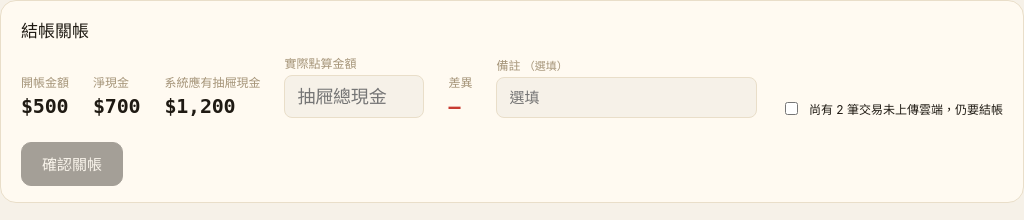
Test: CashClosePanel › 確認關帳 button enabled when hasQueuedRows and queuedAccepted
Type "1200" into the field labelled "實際點算金額" at (354, 96), box [284, 75, 424, 118]
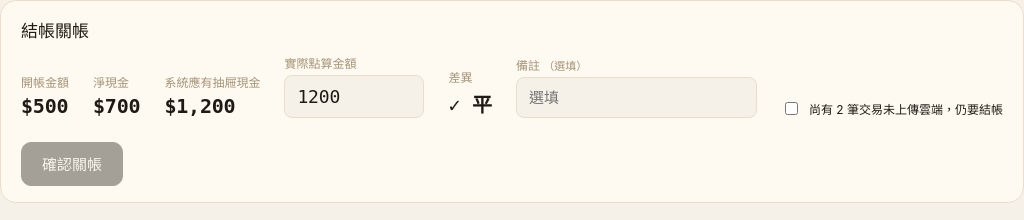
Type "test" into the field named "關帳備註" at (636, 98), box [516, 77, 757, 118]
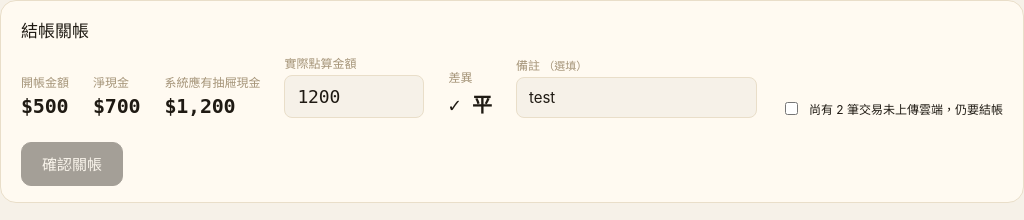
Click the checkbox labelled "尚有 2 筆交易未上傳雲端，仍要結帳" at (791, 108), box [785, 102, 798, 115]
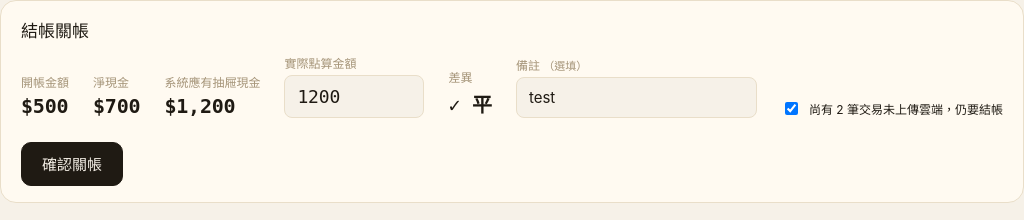
expect the button "確認關帳" is enabled: met, box [21, 142, 123, 186]
